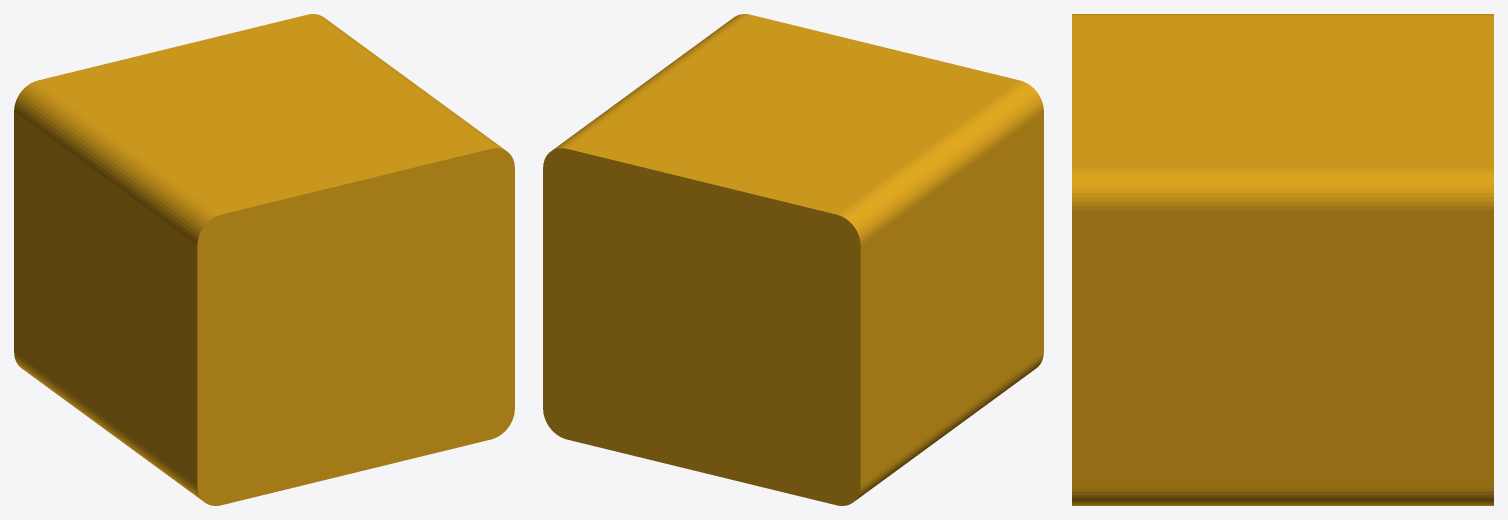
Rendered from arm_yaw_link.obj.
3 renders of one model, left to right at view 1: azimuth 30°, elevation 25°; view 2: azimuth 150°, elevation 25°; view 3: azimuth 270°, elevation 25°, orthographic. The views are drawn at different scales.
Visible parts, largest first — view 1: yaw_0; view 2: yaw_0; view 3: yaw_0.
Boxes of the visible parts, x1=… form: yaw_0: x1=14, y1=14, x2=514, y2=505; yaw_0: x1=543, y1=14, x2=1043, y2=505; yaw_0: x1=1072, y1=14, x2=1493, y2=505.
Size of the model in its own units: 0.16 by 0.14 by 0.16.
